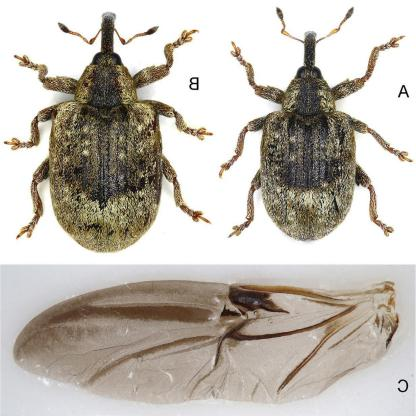ash weevil: (14, 16, 197, 254), (222, 36, 389, 243)
